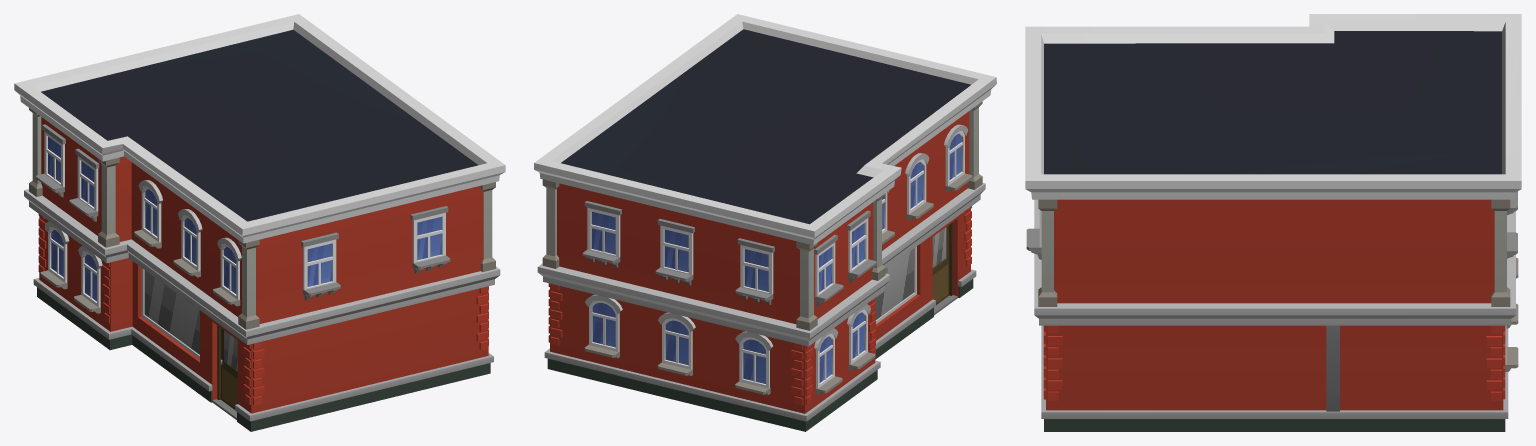
The model's file is Building_1_2_M.fbx.
3 views of the same model, side by side, from view 1: azimuth 30°, elevation 25°; view 2: azimuth 150°, elevation 25°; view 3: azimuth 270°, elevation 25° (orthographic). The views are drawn at different scales.
Visible parts, largest first — view 1: Building_1_2_M; view 2: Building_1_2_M; view 3: Building_1_2_M.
Boxes of the visible parts, box(x1,y1,x2,y2) form: Building_1_2_M: box(14, 14, 505, 431); Building_1_2_M: box(534, 14, 996, 431); Building_1_2_M: box(1025, 14, 1521, 431).
Bounding box in the file's own units: 841 × 600 × 1057.
